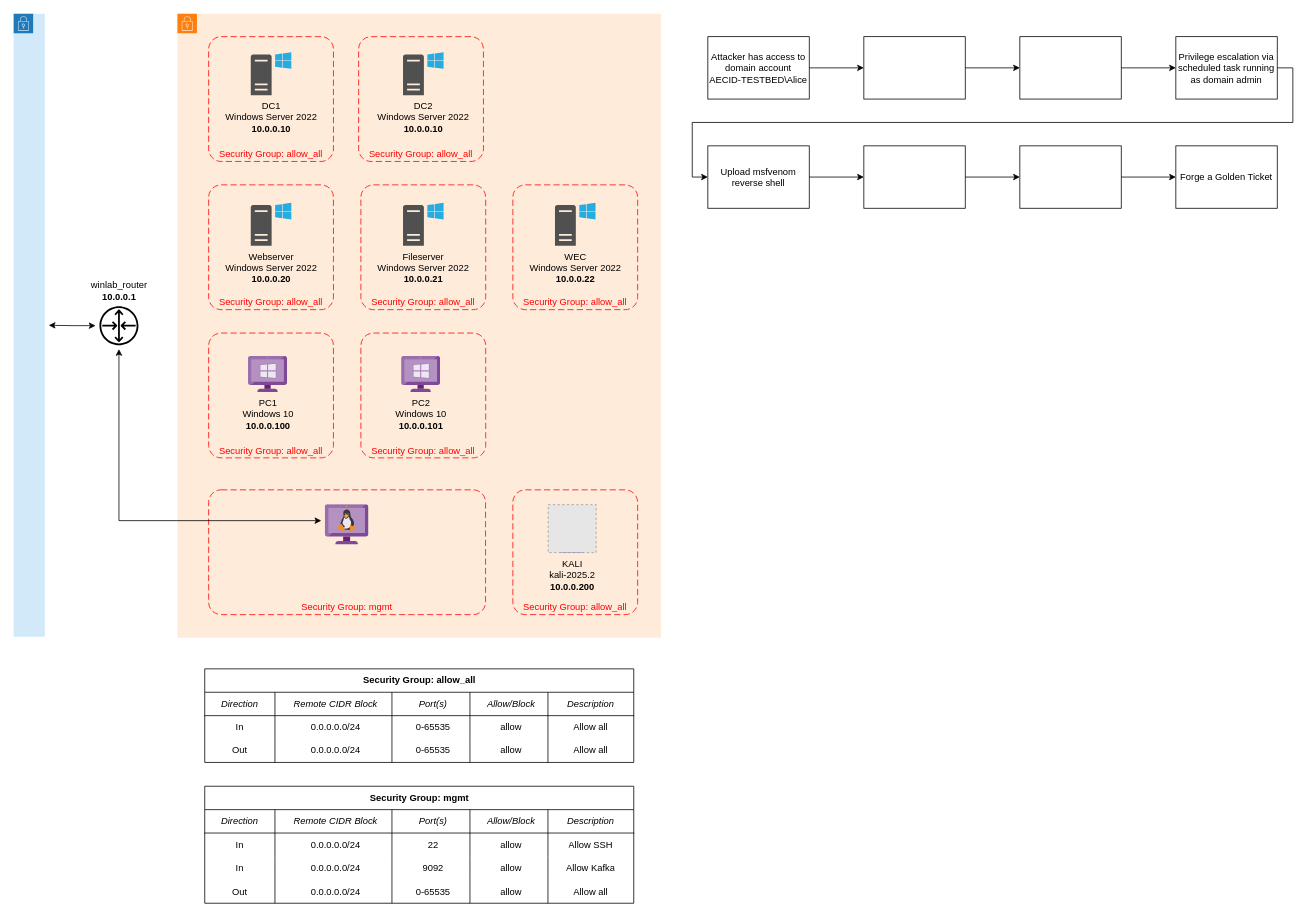
This 1313x917 diagram has some shape labels left out. Grey dashed boxes stand in for pictures. Here are the shapes that lost their labels. From the top down, the box of each, then its label:
(863, 36, 965, 99): Establish WinRM session to webserver at 10.0.0.20
(1019, 36, 1121, 99): Upload Rubeus and Mimikatz
(863, 145, 965, 208): Dump lsass with module kiwi_cmd
(1019, 145, 1121, 208): Dump ntds.dit with secretsdump.py from primary DC at 10.0.0.10
(13, 13, 45, 637): AECID-provider-network: 10.110.0.0/24
(177, 13, 661, 638): winlab_network: 10.110.0.0/24
(325, 504, 368, 544): MGMT Ubuntu 24.04 10.0.0.250 (AECID-provider-network floating IP)
